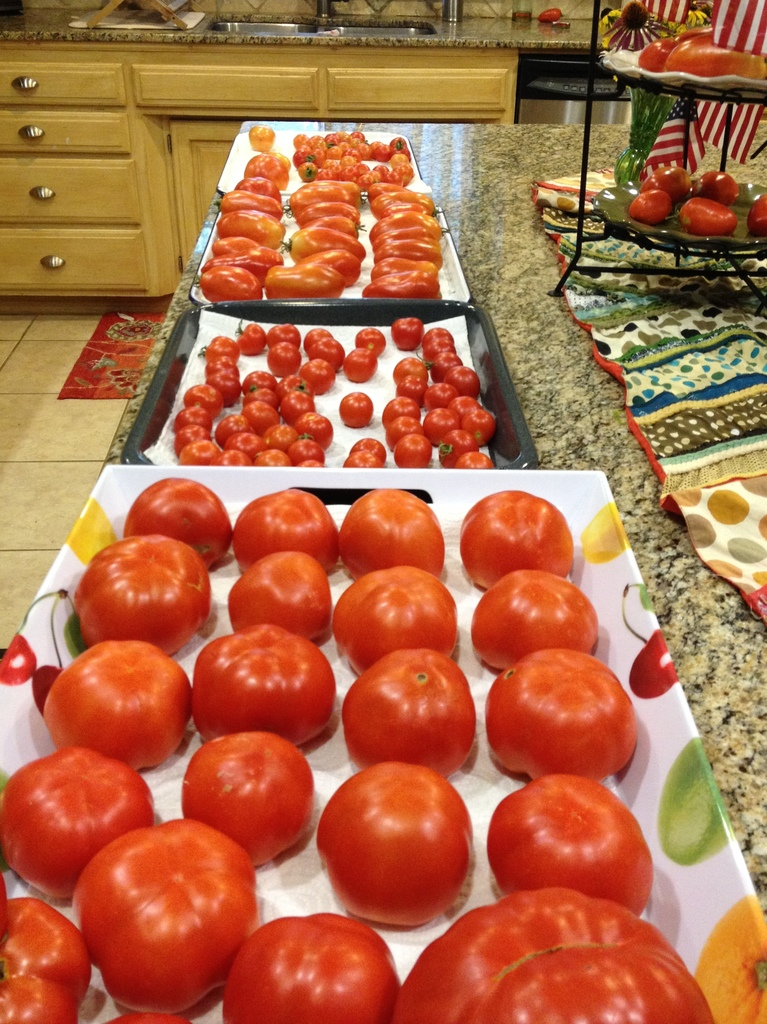Tomato: (0, 480, 718, 1023), (176, 315, 501, 471), (197, 124, 442, 301), (305, 759, 485, 920)
